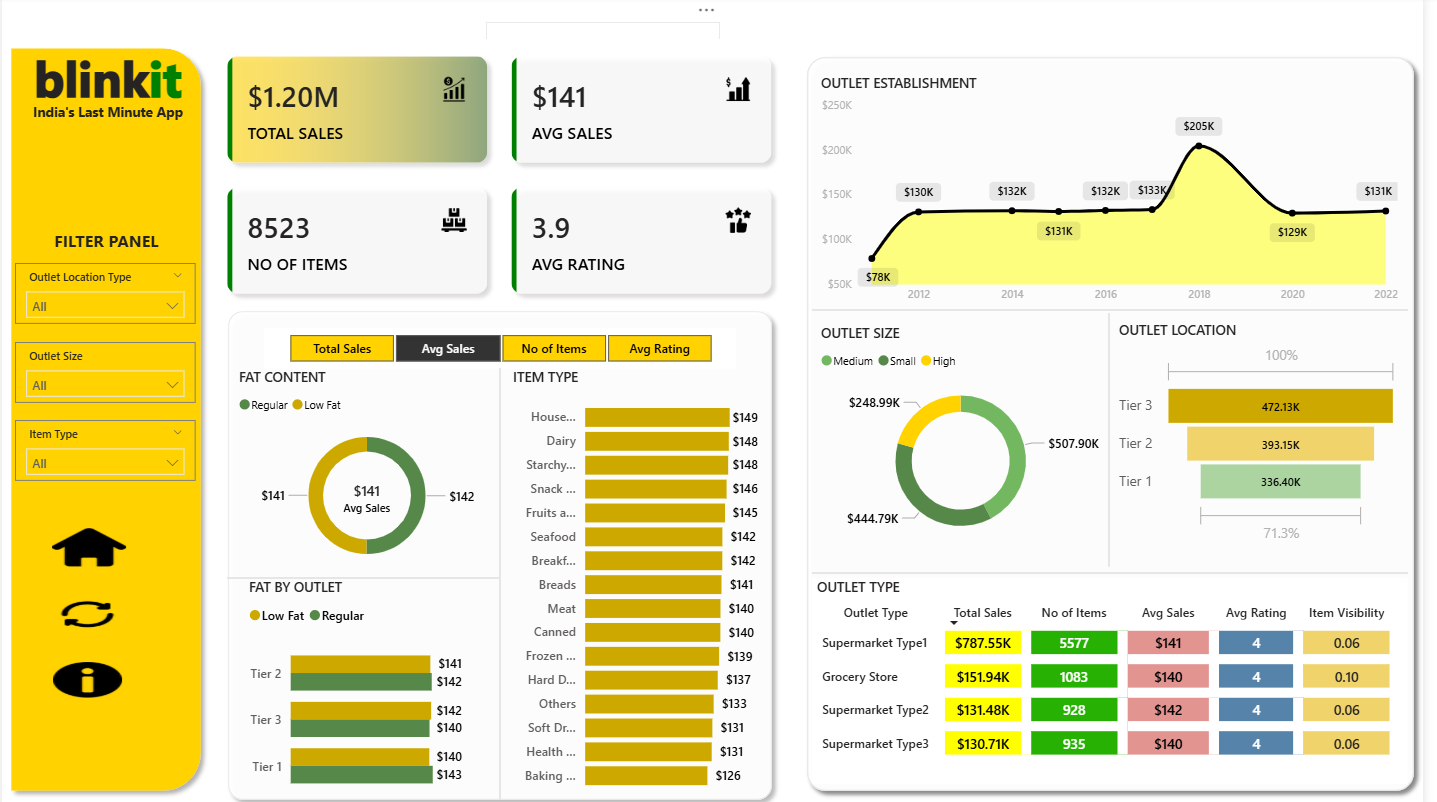

The dashboard page shown, as its layout file describes it:
{"tool":"powerbi","page":{"name":"Page 1","canvas":[1400,800],"ordinal":0},"visuals":[{"type":"shape","box":[0,41.4,204.9,749.8],"z":0},{"type":"textbox","box":[15.8,41.4,177.3,82.8],"z":1000},{"type":"textbox","box":[614.8,508.4,67,267],"z":2000},{"type":"textbox","box":[476.8,24.6,230.5,120.2],"z":3000},{"type":"textbox","box":[458.1,201,281.8,33.5],"z":4000},{"type":"textbox","box":[458.1,234.5,182.3,27.6],"z":5000},{"type":"textbox","box":[15.8,99.5,177.3,32.5],"z":6000},{"type":"cardVisual","fields":{"Data":["BlinkIT Grocery Data.Total Sales","BlinkIT Grocery Data.Avg Sales","BlinkIT Grocery Data.No of Items","BlinkIT Grocery Data.Avg Rating"]},"box":[204.9,41.4,570.4,270],"z":7000},{"type":"shape","box":[213.8,300.5,553.7,499.5],"z":8000},{"type":"donutChart","title":"FAT CONTENT","fields":{"Y":["BlinkIT Grocery Data.Avg Sales"],"Category":["BlinkIT Grocery Data.Item Fat Content"]},"box":[228.6,365.5,262.1,206.9],"z":9000},{"type":"slicer","fields":{"Values":["Metrics.Metrics"]},"box":[258.1,326.1,465,40.4],"z":10000},{"type":"cardVisual","fields":{"Data":["BlinkIT Grocery Data.Avg Sales"]},"box":[311.3,461.1,96.6,55.2],"z":11000},{"type":"clusteredBarChart","title":"FAT BY OUTLET","fields":{"Y":["BlinkIT Grocery Data.Avg Sales"],"Category":["BlinkIT Grocery Data.Outlet Location Type"],"Series":["BlinkIT Grocery Data.Item Fat Content"]},"box":[238.4,572.4,219.7,227.6],"z":12000},{"type":"shape","box":[221.7,561.6,269,21.7],"z":13000},{"type":"shape","box":[1054.2,326.1,37.4,224.6],"z":14000},{"type":"barChart","title":"ITEM TYPE","fields":{"Y":["BlinkIT Grocery Data.Avg Sales"],"Category":["BlinkIT Grocery Data.Item Type"]},"box":[498.5,365.5,251.2,425.6],"z":15000},{"type":"shape","box":[784.2,50.2,615.8,740.9],"z":16000},{"type":"shape","box":[784.2,50.2,615.8,740.9],"z":17000},{"type":"donutChart","title":"OUTLET SIZE","fields":{"Y":["BlinkIT Grocery Data.Total Sales"],"Category":["BlinkIT Grocery Data.Outlet Size"]},"box":[802,322.2,285,225],"z":18000},{"type":"lineChart","title":"OUTLET  ESTABLISHMENT","fields":{"Category":["BlinkIT Grocery Data.Outlet Establishment Year"],"Y":["BlinkIT Grocery Data.Total Sales"]},"box":[802,75.9,578.3,235.5],"z":19000},{"type":"shape","box":[439.4,365.5,102.5,425.6],"z":20000},{"type":"shape","box":[1085.7,311.3,9.9,250.2],"z":21000},{"type":"funnel","title":"OUTLET LOCATION","fields":{"Category":["BlinkIT Grocery Data.Outlet Location Type"],"Y":["Sum(BlinkIT Grocery Data.Sales)"]},"box":[1095.6,319.2,284.7,224.6],"z":22000},{"type":"shape","box":[798,297.5,587.2,21.7],"z":23000},{"type":"shape","box":[798,556.7,587.2,21.7],"z":24000},{"type":"pivotTable","title":"OUTLET TYPE","fields":{"Rows":["BlinkIT Grocery Data.Outlet Type"],"Values":["BlinkIT Grocery Data.Total Sales","BlinkIT Grocery Data.No of Items","BlinkIT Grocery Data.Avg Sales","BlinkIT Grocery Data.Avg Rating","Avg(BlinkIT Grocery Data.Item Visibility)"]},"box":[798,572.4,587.2,203],"z":25000},{"type":"slicer","fields":{"Values":["BlinkIT Grocery Data.Outlet Location Type"]},"box":[12.8,262.1,178.3,60.1],"z":26000},{"type":"slicer","fields":{"Values":["BlinkIT Grocery Data.Outlet Size"]},"box":[12.8,339.9,178.3,60.1],"z":27000},{"type":"slicer","fields":{"Values":["BlinkIT Grocery Data.Item Type"]},"box":[12.8,416.7,178.3,60.1],"z":28000},{"type":"textbox","box":[24.6,224.6,156.7,30.5],"z":29000},{"type":"actionButton","box":[49.3,523.2,72.9,38.4],"z":30000},{"type":"actionButton","box":[48.5,590.1,72.3,35.6],"z":31000},{"type":"actionButton","box":[47.4,652.6,73.6,41.2],"z":32000}]}

Visuals, with their boxes in screenshot pixels (x1, y1, x2, y2), scaled from the page's 1400x800 canvas onto the 1437x802 screenshot:
shape: pyautogui.locateOnScreen(0, 42, 210, 793)
textbox: pyautogui.locateOnScreen(16, 42, 198, 125)
textbox: pyautogui.locateOnScreen(631, 510, 700, 777)
textbox: pyautogui.locateOnScreen(489, 25, 726, 145)
textbox: pyautogui.locateOnScreen(470, 202, 759, 235)
textbox: pyautogui.locateOnScreen(470, 235, 657, 263)
textbox: pyautogui.locateOnScreen(16, 100, 198, 132)
cardVisual - BlinkIT Grocery Data.Total Sales x BlinkIT Grocery Data.Avg Sales: pyautogui.locateOnScreen(210, 42, 796, 312)
shape: pyautogui.locateOnScreen(219, 301, 788, 801)
"FAT CONTENT" donutChart: pyautogui.locateOnScreen(235, 366, 504, 574)
slicer - Metrics.Metrics: pyautogui.locateOnScreen(265, 327, 742, 367)
cardVisual - BlinkIT Grocery Data.Avg Sales: pyautogui.locateOnScreen(320, 462, 419, 518)
"FAT BY OUTLET" clusteredBarChart: pyautogui.locateOnScreen(245, 574, 470, 801)
shape: pyautogui.locateOnScreen(228, 563, 504, 585)
shape: pyautogui.locateOnScreen(1082, 327, 1120, 552)
"ITEM TYPE" barChart: pyautogui.locateOnScreen(512, 366, 770, 793)
shape: pyautogui.locateOnScreen(805, 50, 1436, 793)
shape: pyautogui.locateOnScreen(805, 50, 1436, 793)
"OUTLET SIZE" donutChart: pyautogui.locateOnScreen(823, 323, 1116, 549)
"OUTLET  ESTABLISHMENT" lineChart: pyautogui.locateOnScreen(823, 76, 1417, 312)
shape: pyautogui.locateOnScreen(451, 366, 556, 793)
shape: pyautogui.locateOnScreen(1114, 312, 1125, 563)
"OUTLET LOCATION" funnel: pyautogui.locateOnScreen(1125, 320, 1417, 545)
shape: pyautogui.locateOnScreen(819, 298, 1422, 320)
shape: pyautogui.locateOnScreen(819, 558, 1422, 580)
"OUTLET TYPE" pivotTable: pyautogui.locateOnScreen(819, 574, 1422, 777)
slicer - BlinkIT Grocery Data.Outlet Location Type: pyautogui.locateOnScreen(13, 263, 196, 323)
slicer - BlinkIT Grocery Data.Outlet Size: pyautogui.locateOnScreen(13, 341, 196, 401)
slicer - BlinkIT Grocery Data.Item Type: pyautogui.locateOnScreen(13, 418, 196, 478)
textbox: pyautogui.locateOnScreen(25, 225, 186, 256)
actionButton: pyautogui.locateOnScreen(51, 525, 125, 563)
actionButton: pyautogui.locateOnScreen(50, 592, 124, 627)
actionButton: pyautogui.locateOnScreen(49, 654, 124, 696)
